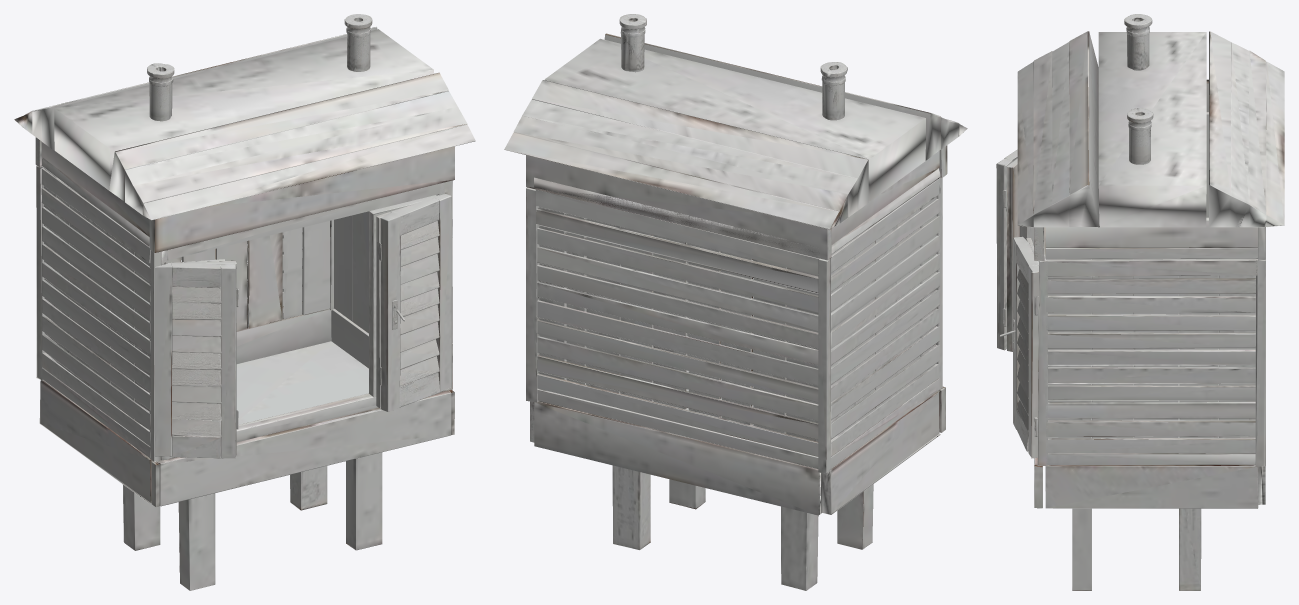
The model's file is stevenson-screen.glb.
The picture shows the model from 3 angles, left to right: view 1: azimuth 30°, elevation 25°; view 2: azimuth 150°, elevation 25°; view 3: azimuth 270°, elevation 25°; orthographic projection. The views are drawn at different scales.
Bounding box in the file's own units: 0.6494 × 0.9507 × 0.5142.
Materials: 1 (1 with a texture image).
